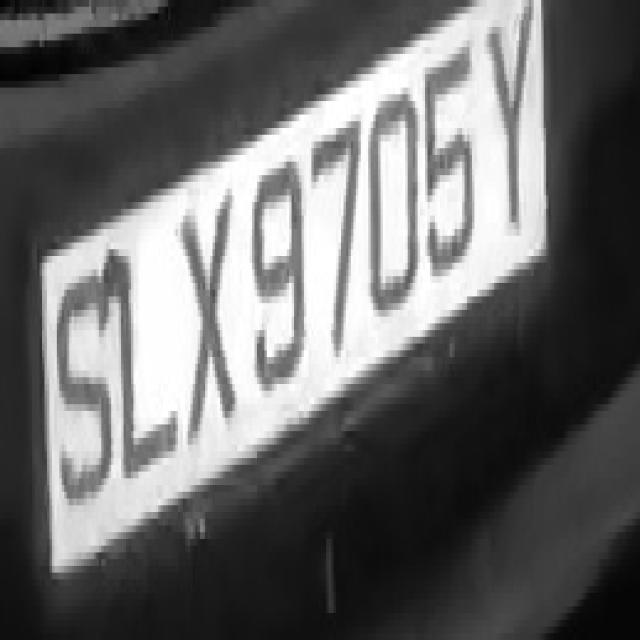0: (363, 74, 423, 330)
5: (413, 40, 479, 276)
7: (299, 115, 361, 377)
9: (250, 155, 306, 404)
L: (114, 236, 180, 498)
S: (50, 263, 119, 525)
X: (176, 189, 240, 458)
Y: (486, 7, 538, 236)
